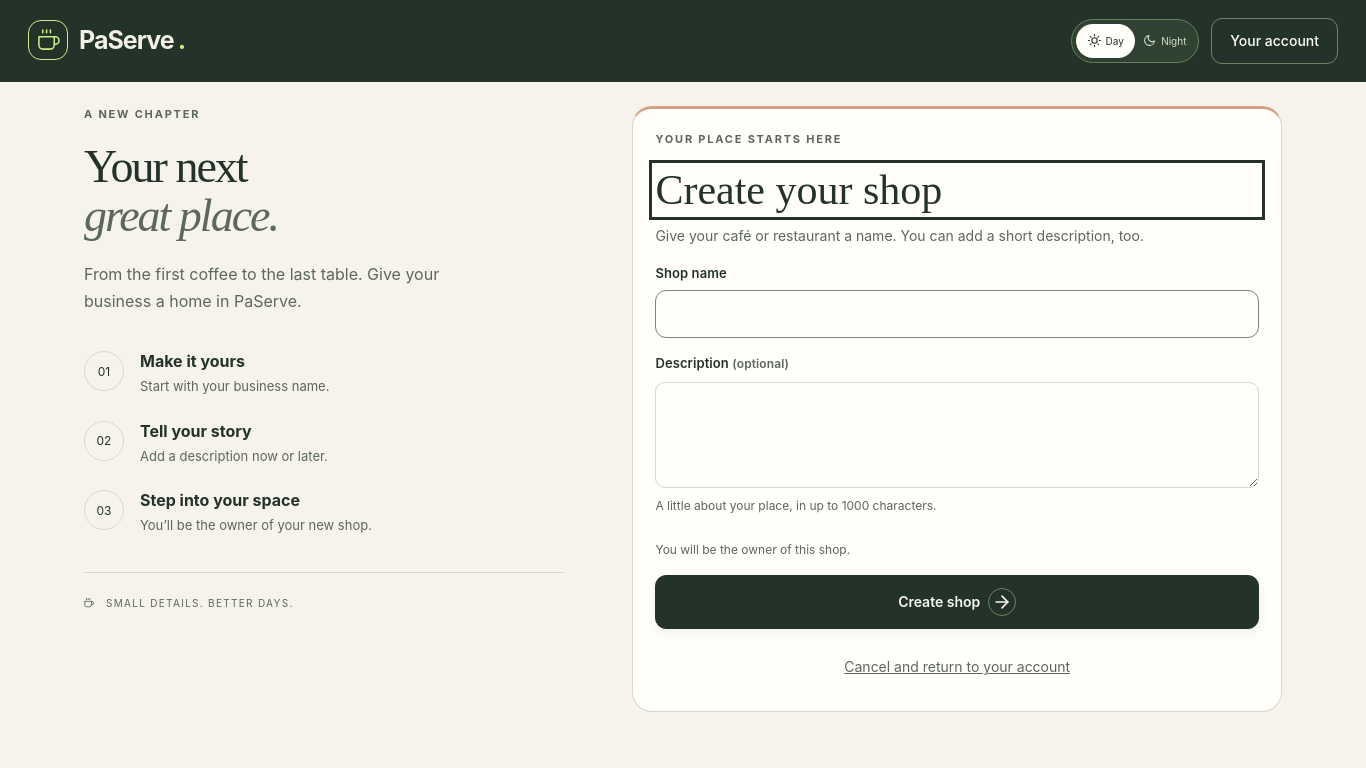
Test: disables editing and repeat submission while the request is pending
Type "Café North" into the field labelled "Shop name" at (957, 314), box top-left (655, 290), bottom-right (1259, 338)
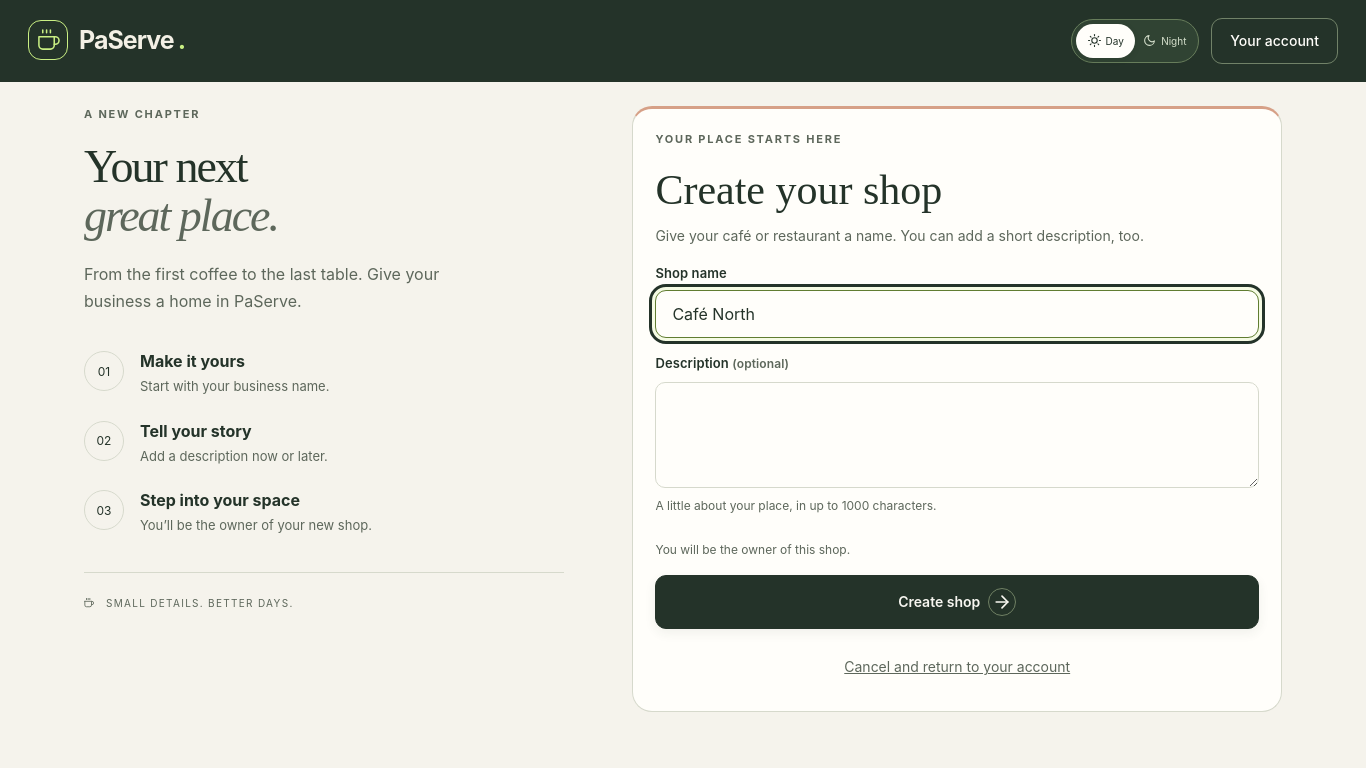
Double-click the button "Create shop" at (957, 602), box top-left (655, 575), bottom-right (1259, 629)
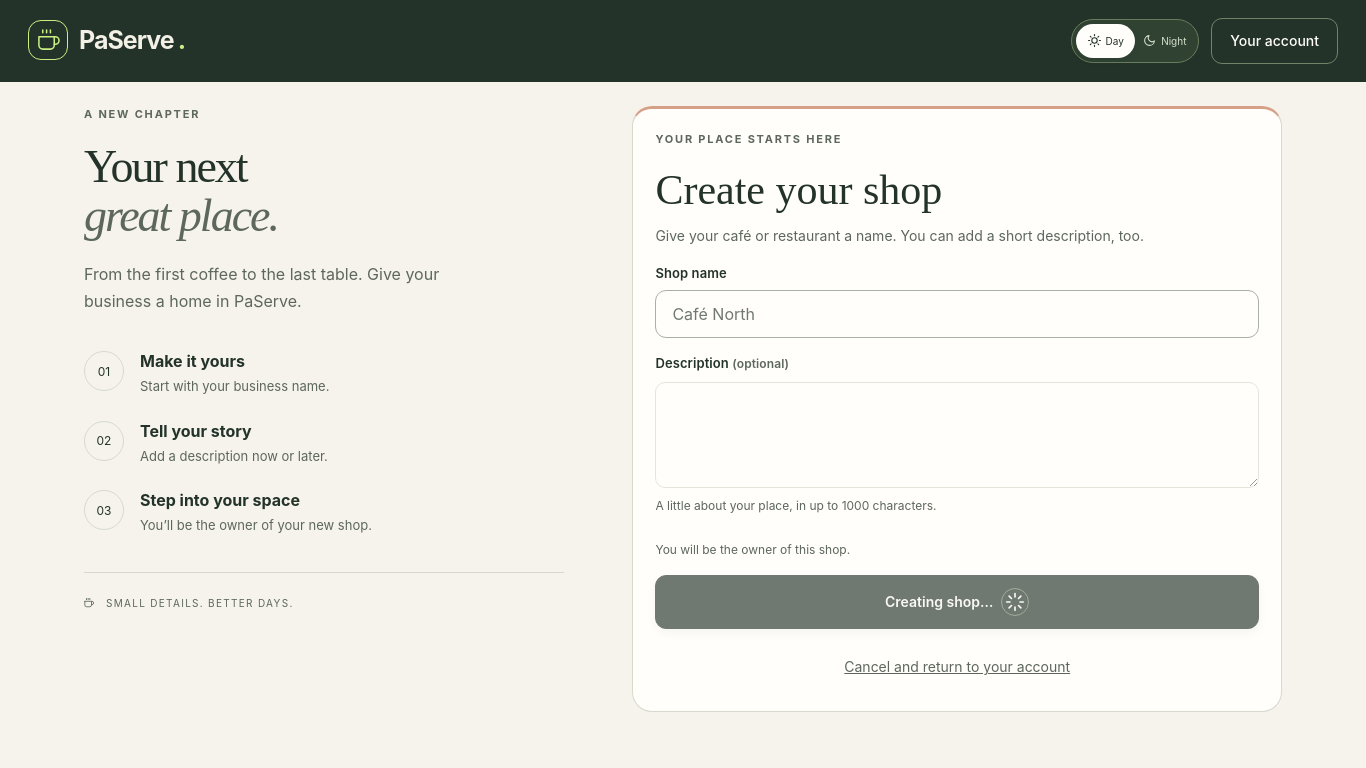
Expected: the text box labelled "Description (optional)" is disabled, top-left (655, 382), bottom-right (1259, 488)
Now the button "Creating shop…" is disabled, box top-left (655, 575), bottom-right (1259, 629)
Now the field labelled "Shop name" is disabled, box top-left (655, 290), bottom-right (1259, 338)
